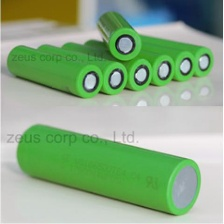battery: (14, 121, 203, 219), (3, 42, 104, 101), (35, 42, 130, 98), (58, 40, 154, 92), (81, 37, 177, 88), (108, 35, 196, 83), (133, 33, 215, 80), (94, 7, 144, 64)
